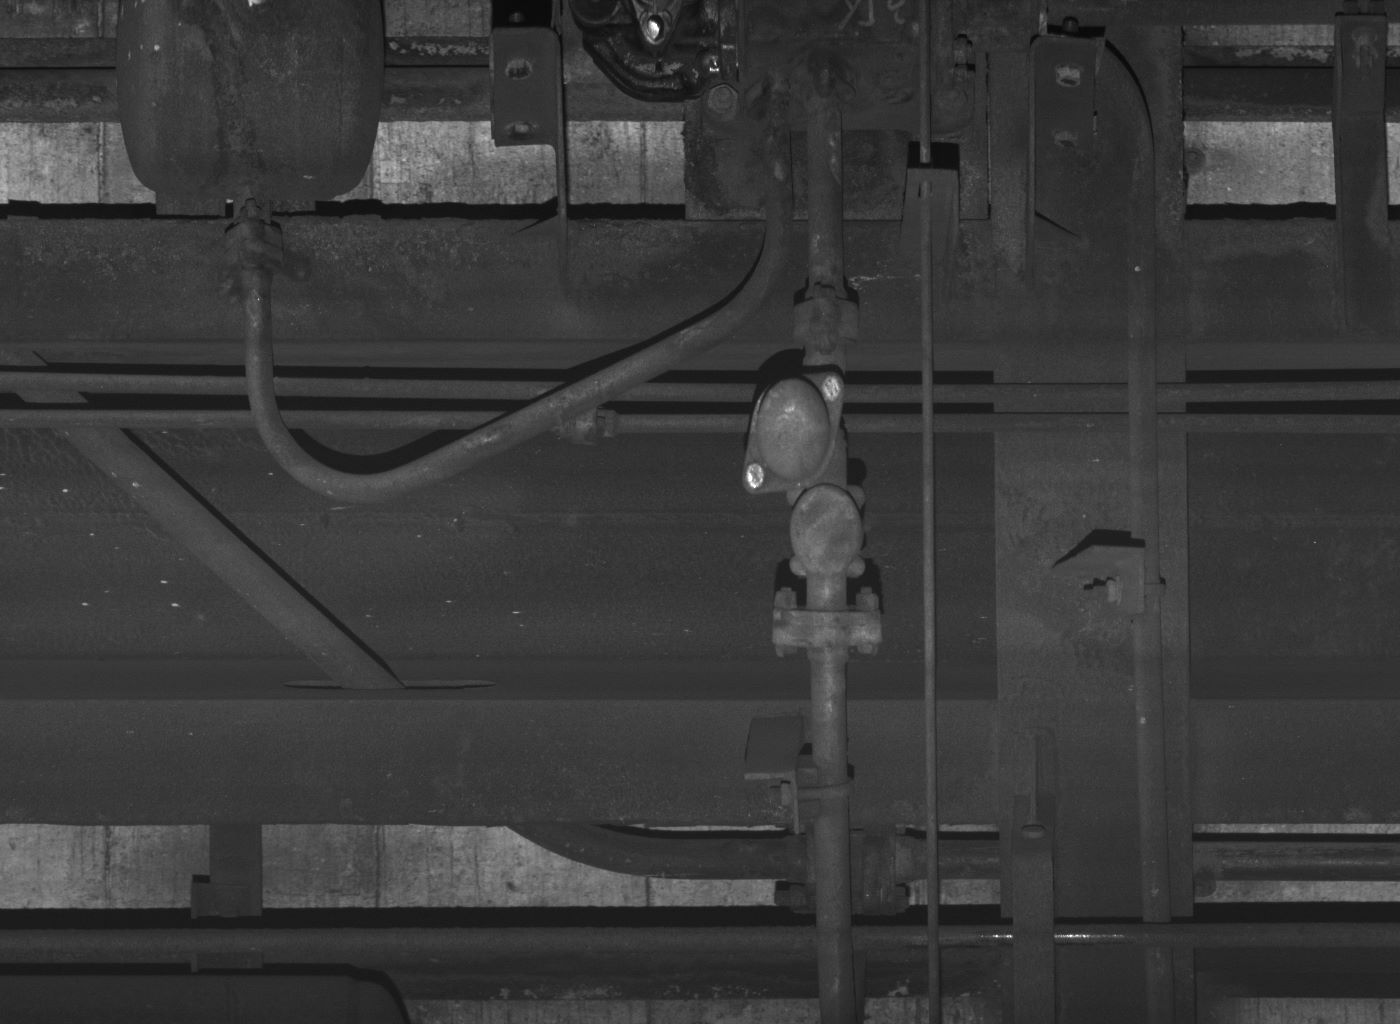normal: (788, 483, 868, 578)
